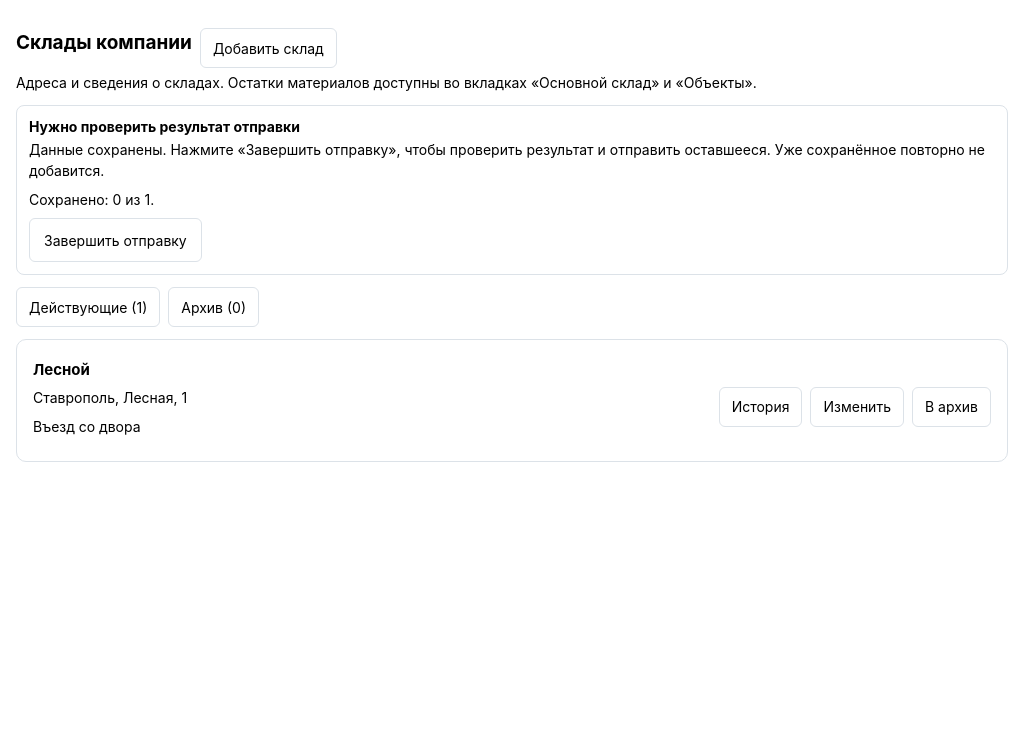
Test case: recovering an unrelated saved command does not discard an open warehouse draft
The image size is (1024, 736).
Click the button with aria-label "Изменить Лесной": coordinates (857, 406) left=810, top=386, right=904, bottom=426
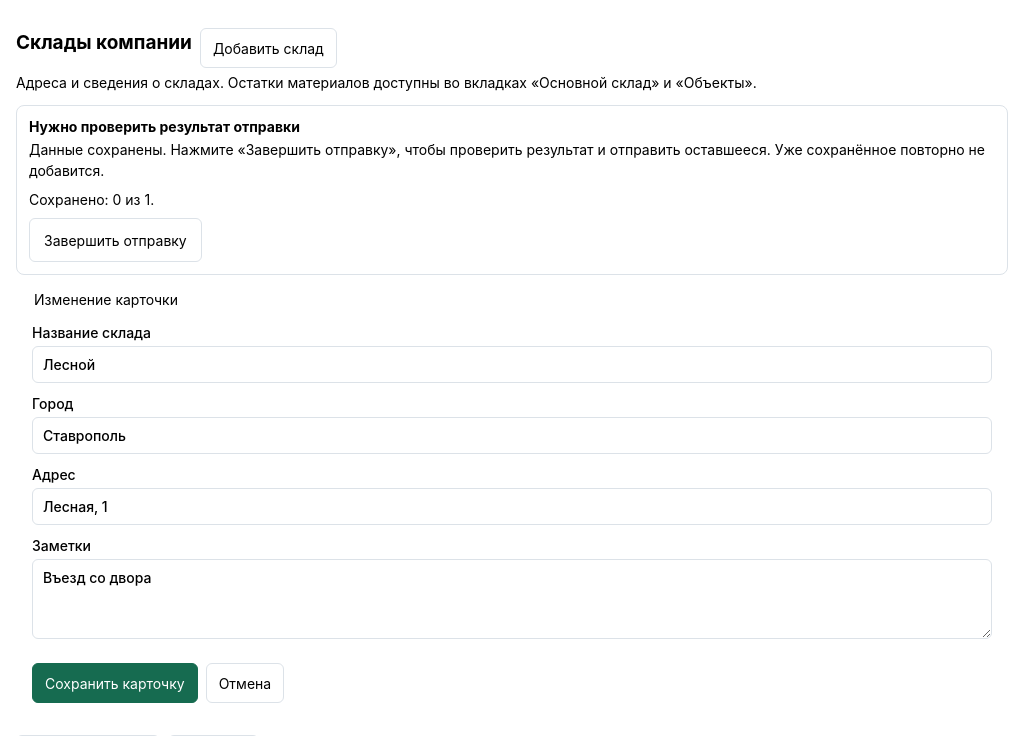
Replace the text in the text box labelled "Заметки" with "Не терять этот черновик": coordinates (512, 599) left=32, top=559, right=992, bottom=639
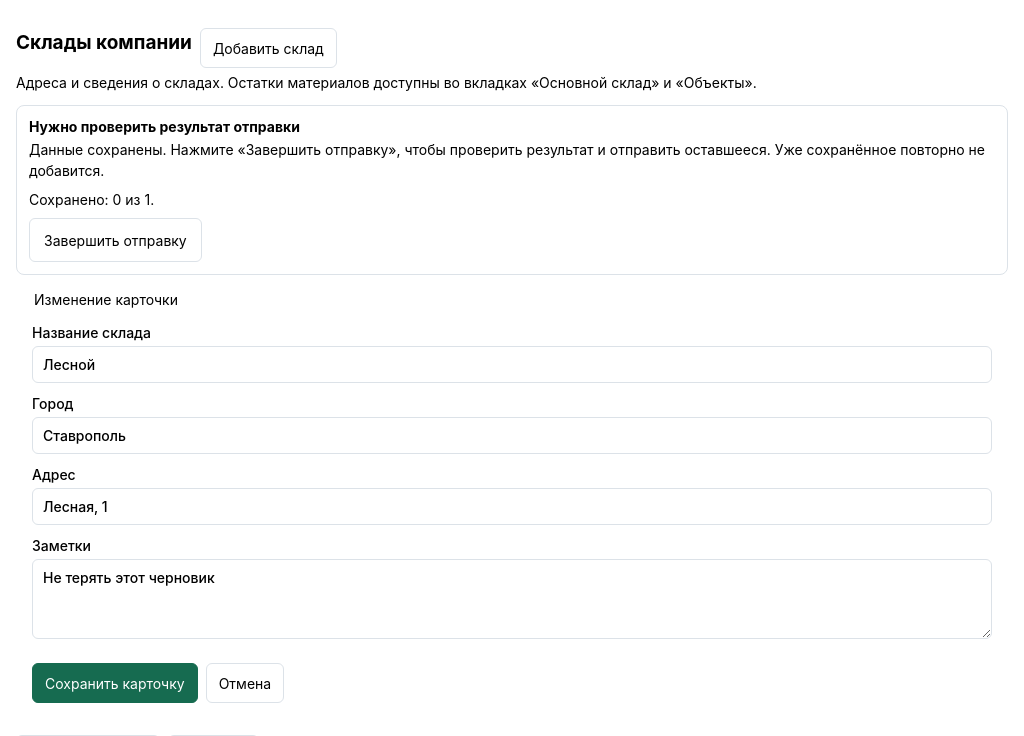
Click the button "Завершить отправку": coordinates (115, 240) left=29, top=218, right=202, bottom=262
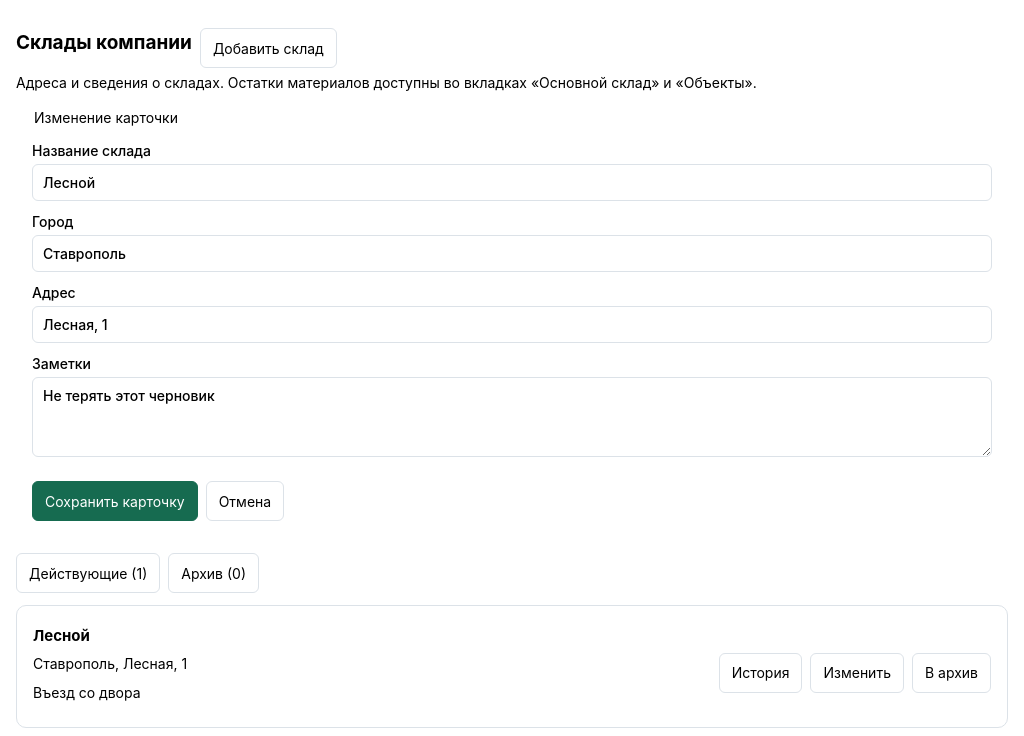
Result: the text "Нужно проверить результат отправки" is gone
